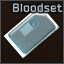Medical bloodset: (0, 0, 64, 64)
